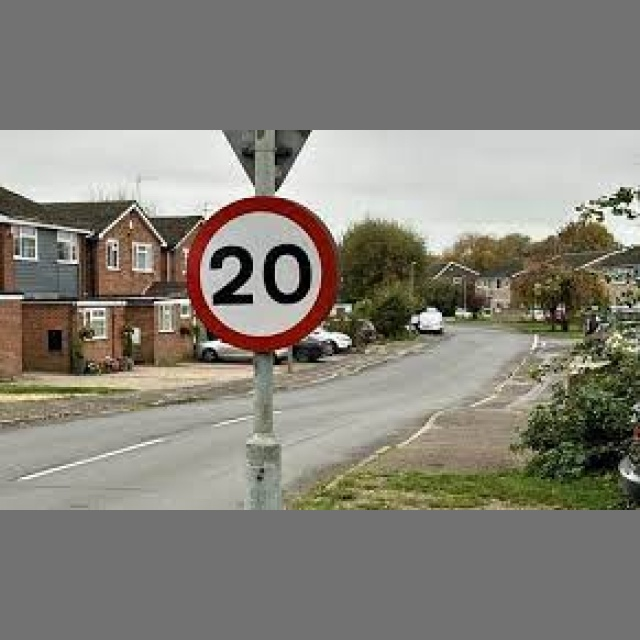Speed_Limit_20: (187, 196, 338, 349)
